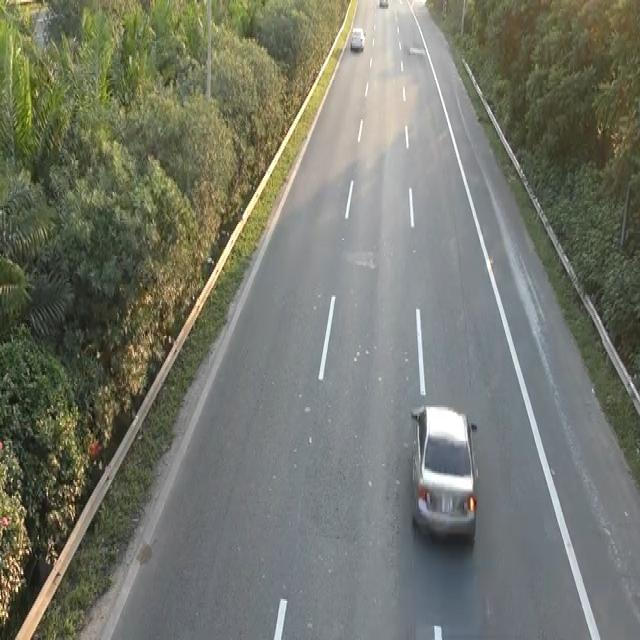bus: (408, 400, 480, 544)
